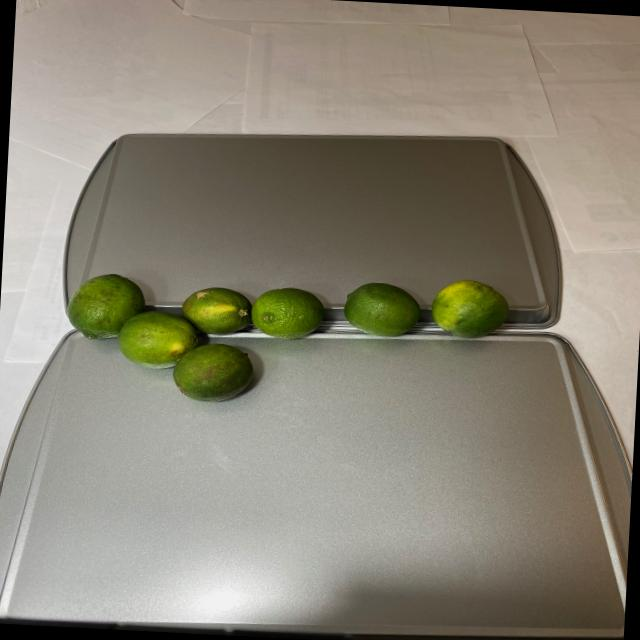lemon: (62, 256, 528, 416)
